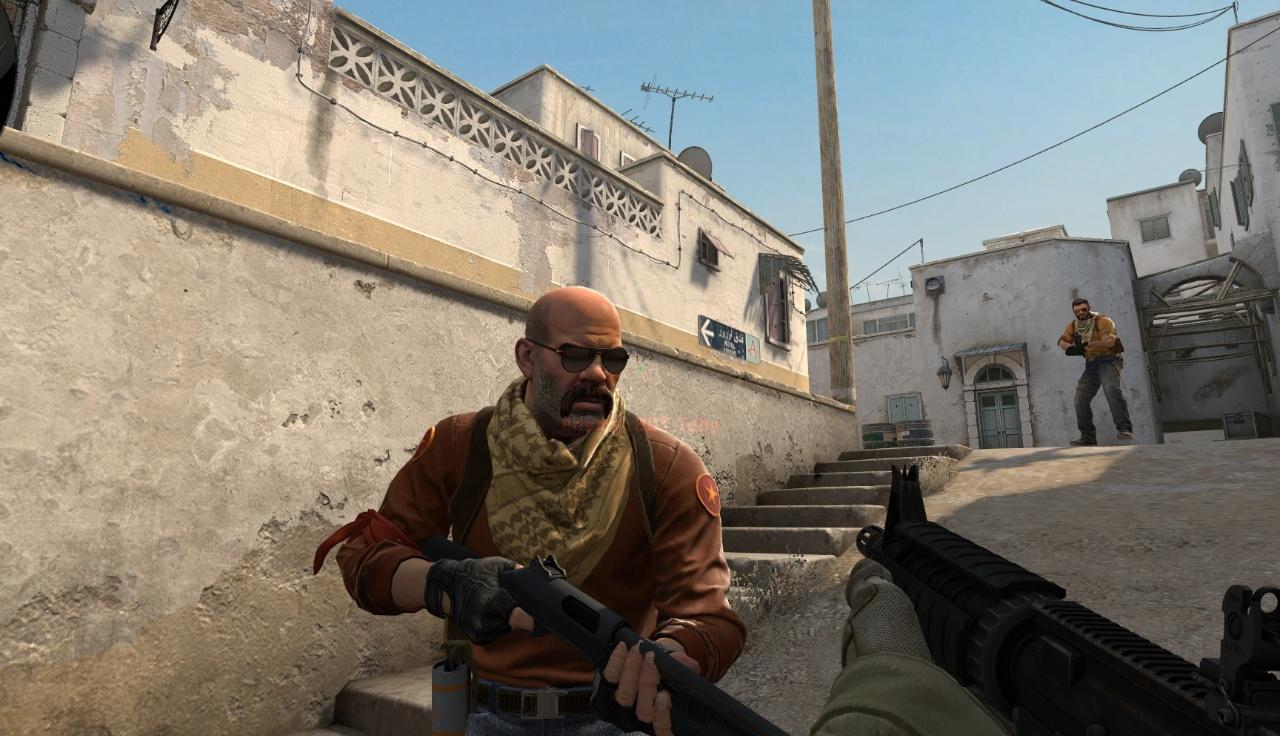rifle: (808, 464, 1280, 736)
tt: (336, 285, 747, 736), (1058, 299, 1133, 446)
tthead: (515, 286, 624, 430), (1072, 299, 1090, 320)
